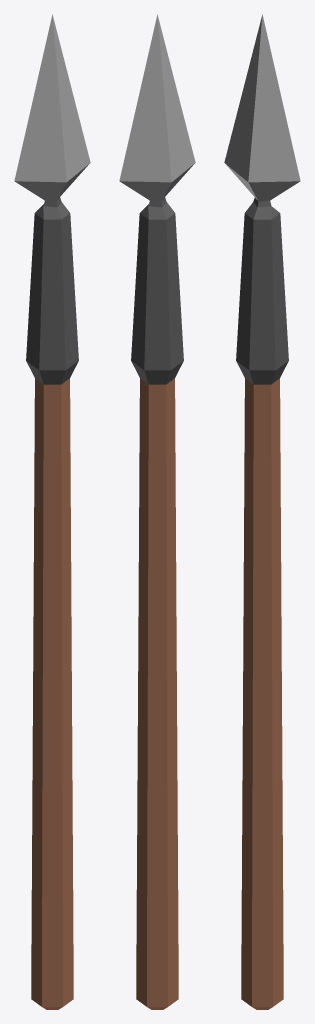
File: Spear.fbx
3 views of the same model, side by side, from view 1: azimuth 30°, elevation 25°; view 2: azimuth 210°, elevation 25°; view 3: azimuth 330°, elevation 25° (orthographic).
Parts seen in each view (by area): view 1: Spear; view 2: Spear; view 3: Spear.
Part boxes in pixels (box(x1,y1,x2,y2)): Spear: box(14, 14, 90, 1009); Spear: box(119, 14, 195, 1009); Spear: box(224, 14, 300, 1009).
Bounding box in the file's own units: 22.44 × 279 × 14.46.
